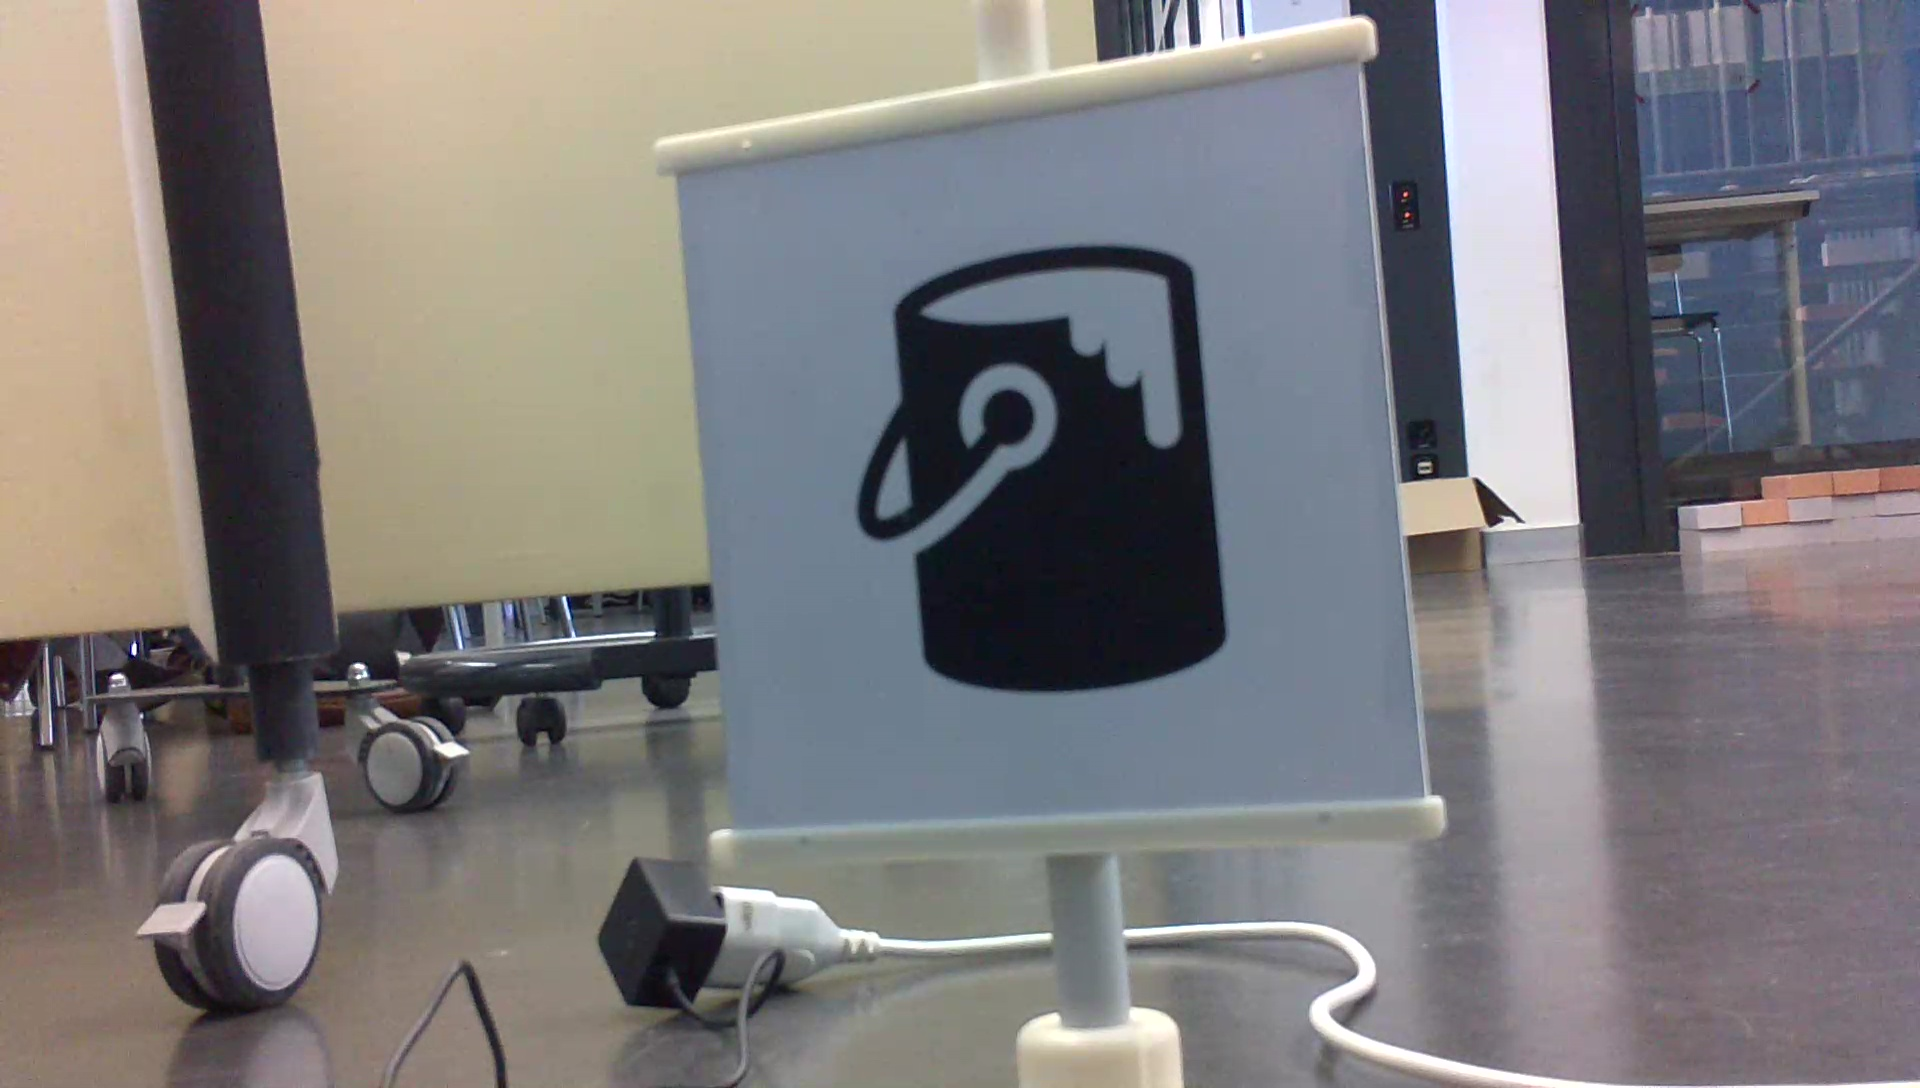bucket: (847, 237, 1236, 703)
